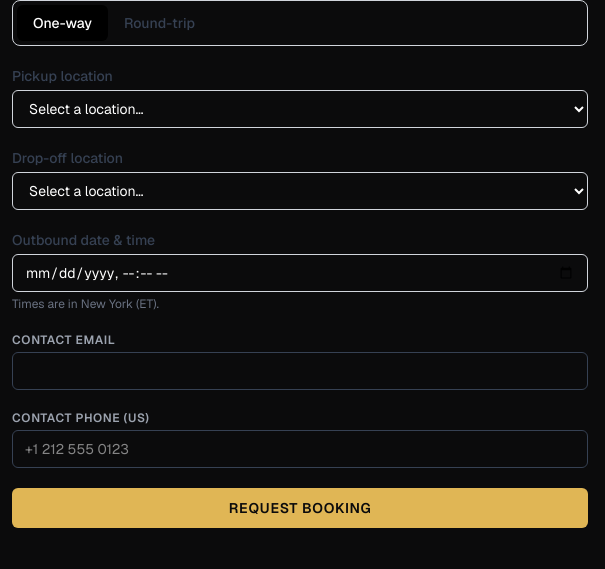
Scenario: BookingForm › shows an inline error for an invalid contact email
Select "JFK — JFK" in the dropdown with test id "origin-select" at (300, 109), box [12, 90, 588, 128]
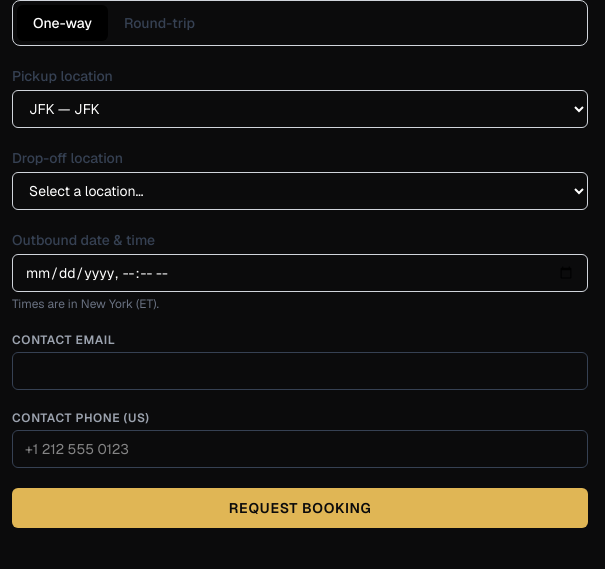
Select "Manhattan" in the dropdown with test id "destination-select" at (300, 191), box [12, 172, 588, 210]
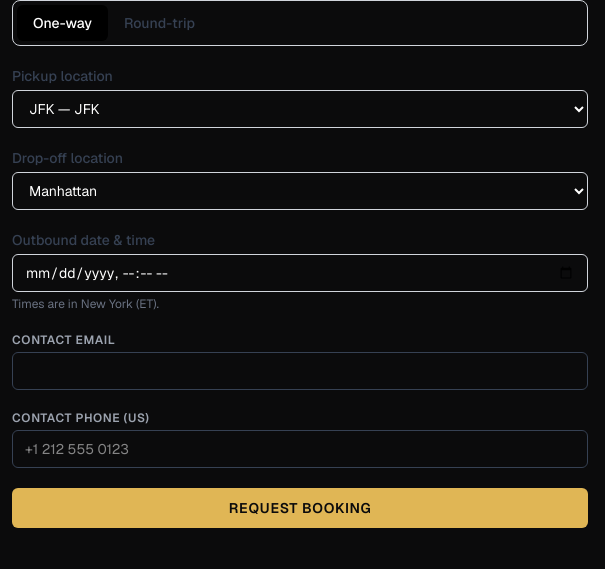
Type "2026-01-15T08:00" into the field with test id "outbound-datetime" at (300, 273), box [12, 254, 588, 292]
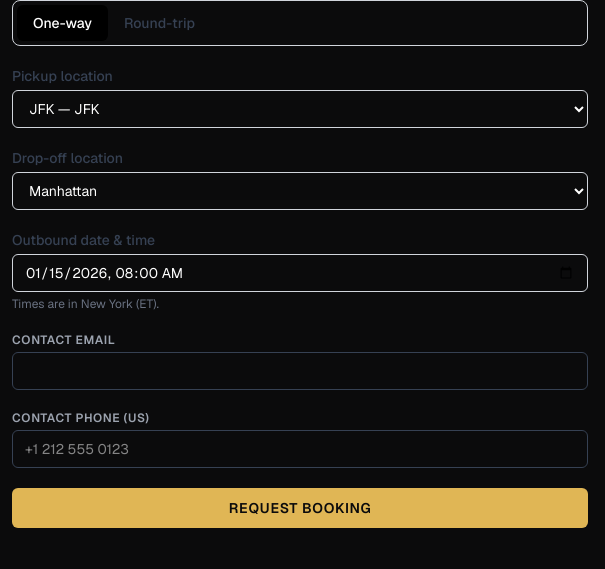
Type "not-an-email" into the field with test id "contact-email" at (300, 371), box [12, 352, 588, 390]
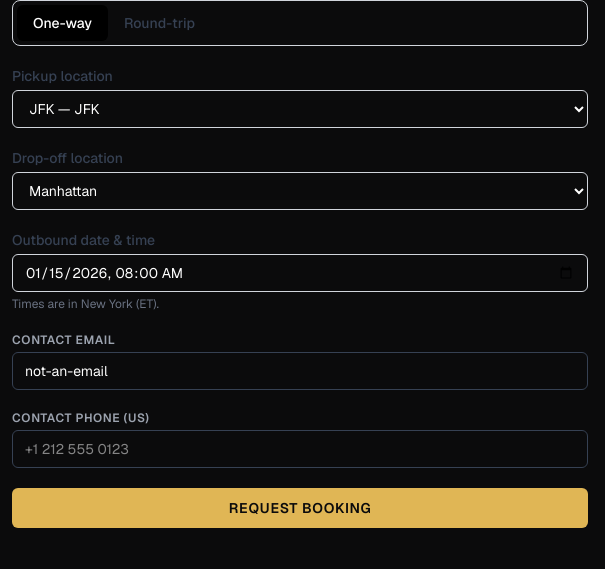
Type "212-555-0123" into the field with test id "contact-phone" at (300, 449), box [12, 430, 588, 468]
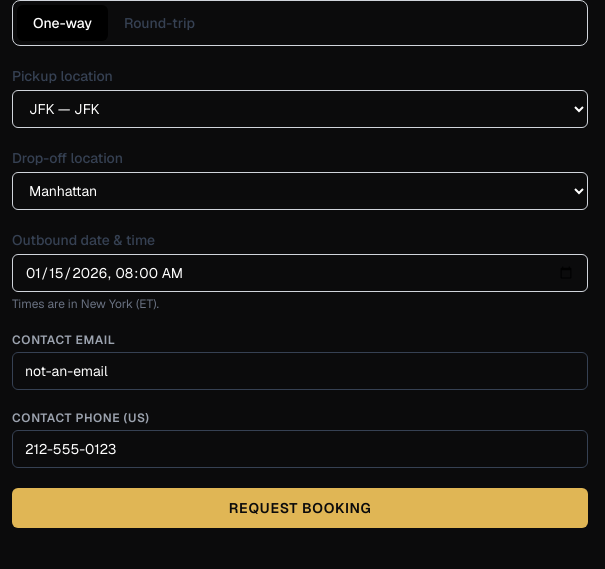
Click the button with test id "booking-submit" at (300, 508), box [12, 488, 588, 528]
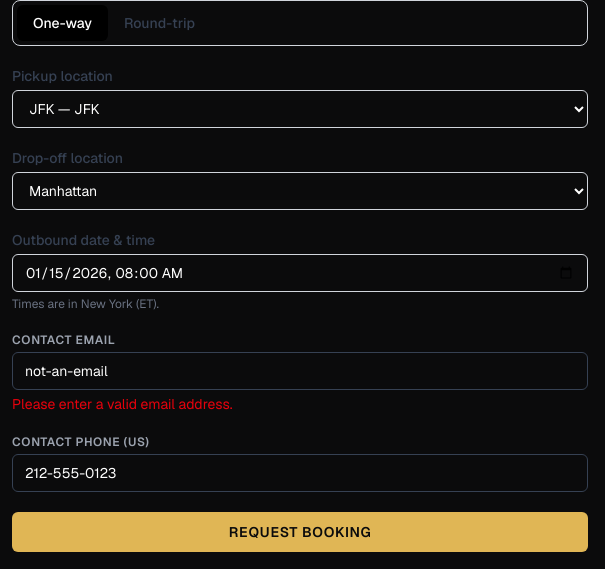
Now the message "Please enter a valid email address." is shown, box [12, 395, 232, 413]
